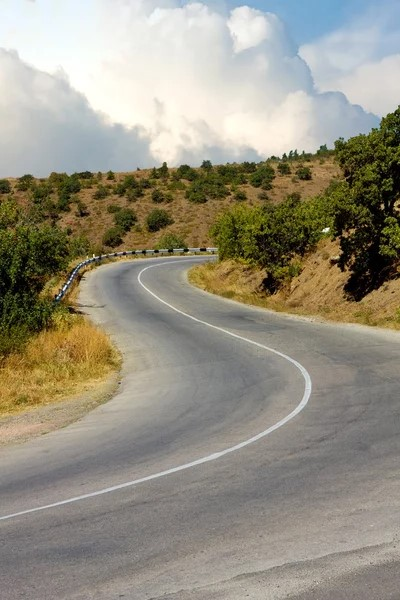leftTrun: (96, 310, 400, 535)
